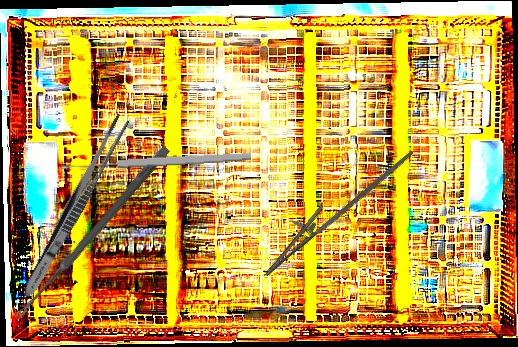Dressing Forceps: (18, 111, 132, 302)
Needle Holder: (253, 124, 415, 293)
Surgical Spoon: (12, 144, 171, 323), (61, 151, 252, 172)
